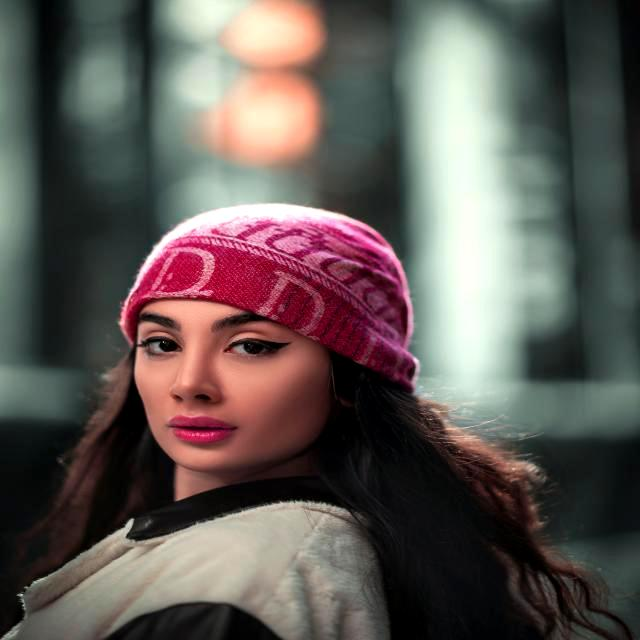no_hard_hat: (120, 204, 418, 390)
person: (3, 204, 635, 640)
